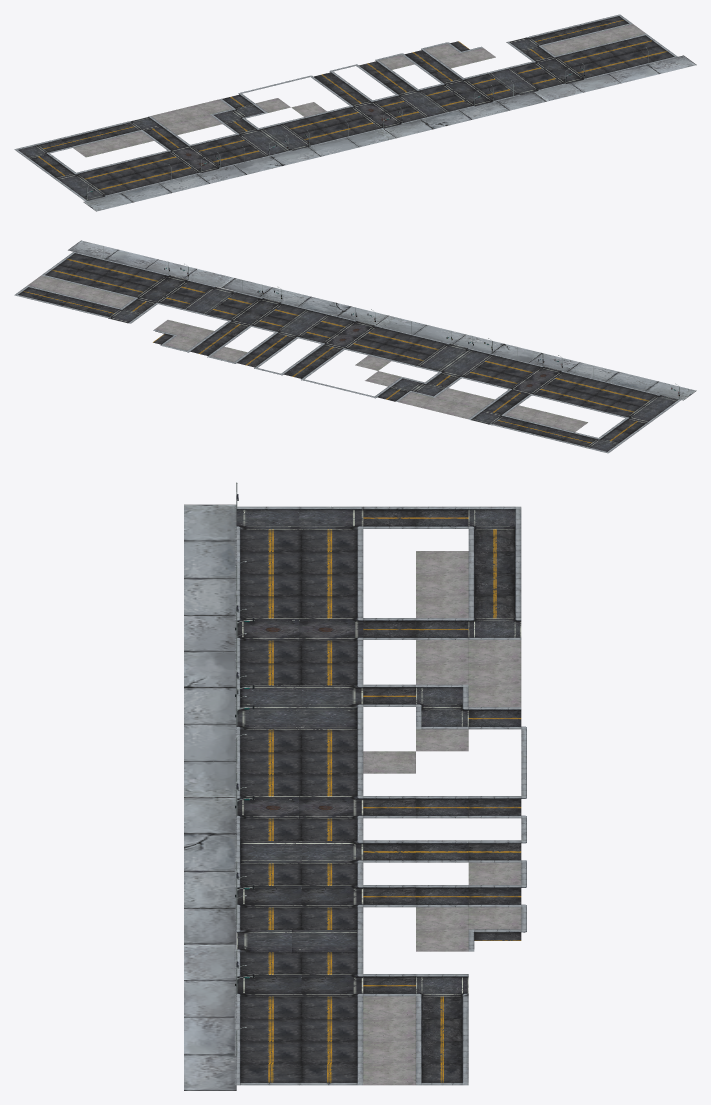
File: road 1.fbx
3 views of the same model, one above another, from view 1: azimuth 30°, elevation 25°; view 2: azimuth 150°, elevation 25°; view 3: azimuth 270°, elevation 25° (orthographic). The views are drawn at different scales.
Visible parts, largest first — view 1: BD_ConcreteBlock1; view 2: BD_ConcreteBlock1; view 3: BD_ConcreteBlock1.
Boxes of the visible parts, <box> form: BD_ConcreteBlock1: <box>14,14,696,211</box>; BD_ConcreteBlock1: <box>14,240,696,453</box>; BD_ConcreteBlock1: <box>184,482,526,1090</box>.
Size of the model in its own units: 47418 by 1129 by 11730.
7 materials, 3 textured.
